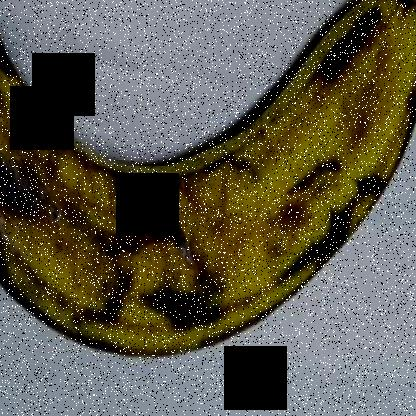overripe: (1, 1, 410, 375)
